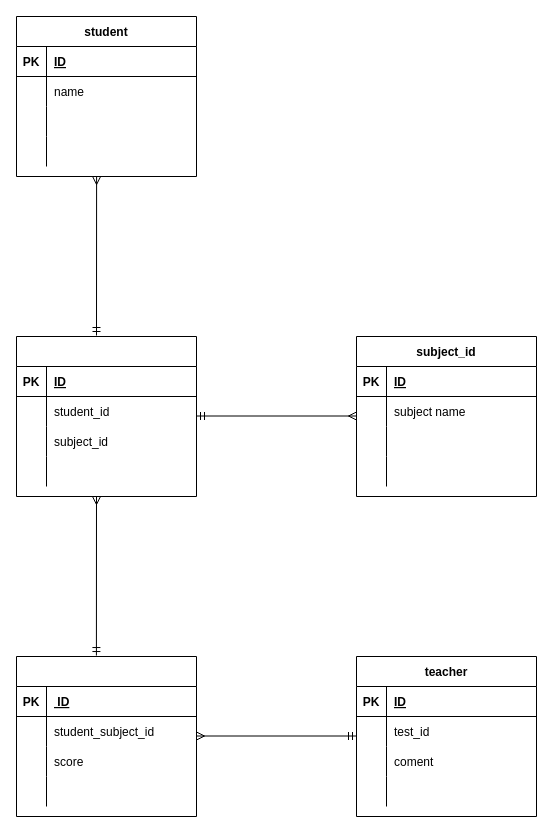
The diagram is 553 pixels wide and 833 high, and some of its shapes have lost their labels. The shapes that lost their labels are listed below. From the top down, each one's box as (x1, y1, x2, y2) in pixels, then its label:
(16, 336, 196, 496): student_subject
(16, 656, 196, 816): test
